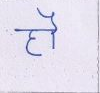o_matra: (45, 8, 59, 49)
